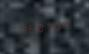four: (17, 22, 25, 35), (63, 18, 71, 31)
seven: (45, 19, 53, 33)
six: (26, 21, 34, 34)
zero: (36, 20, 44, 34), (54, 19, 62, 32)
